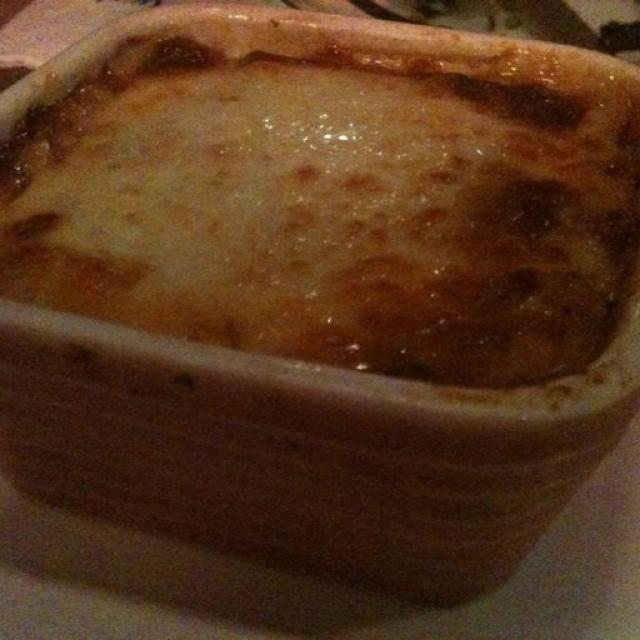Lasagna: (26, 17, 635, 402)
